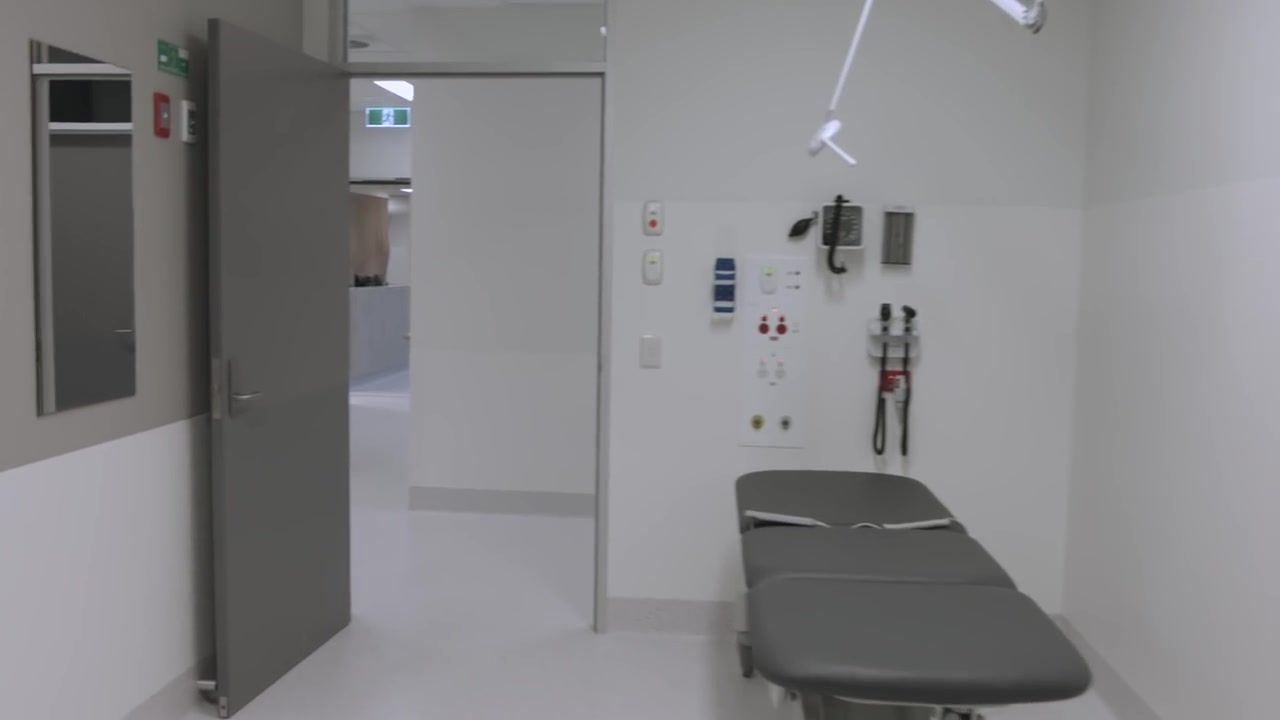door_handle: (226, 357, 268, 414)
exam_table: (731, 468, 1091, 720)
